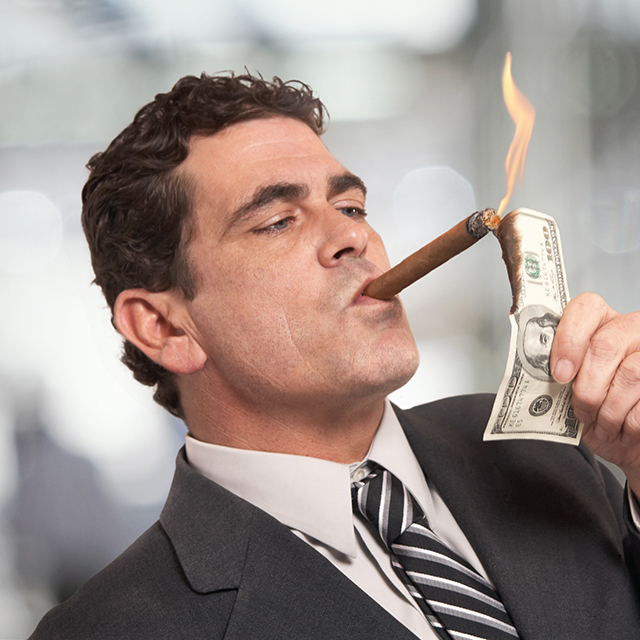banknotes: (483, 210, 585, 449)
